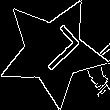L_SW: (24, 23, 82, 80)
